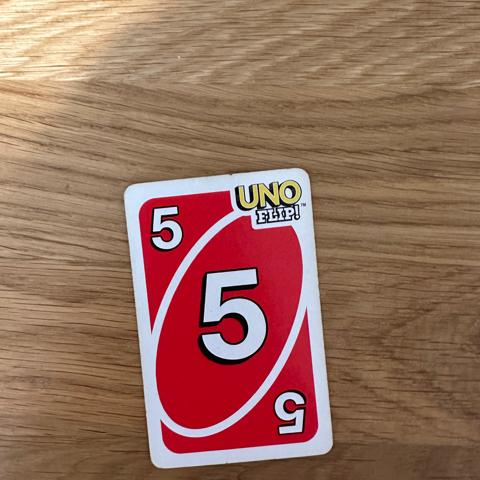lred-5: (135, 194, 198, 261)
